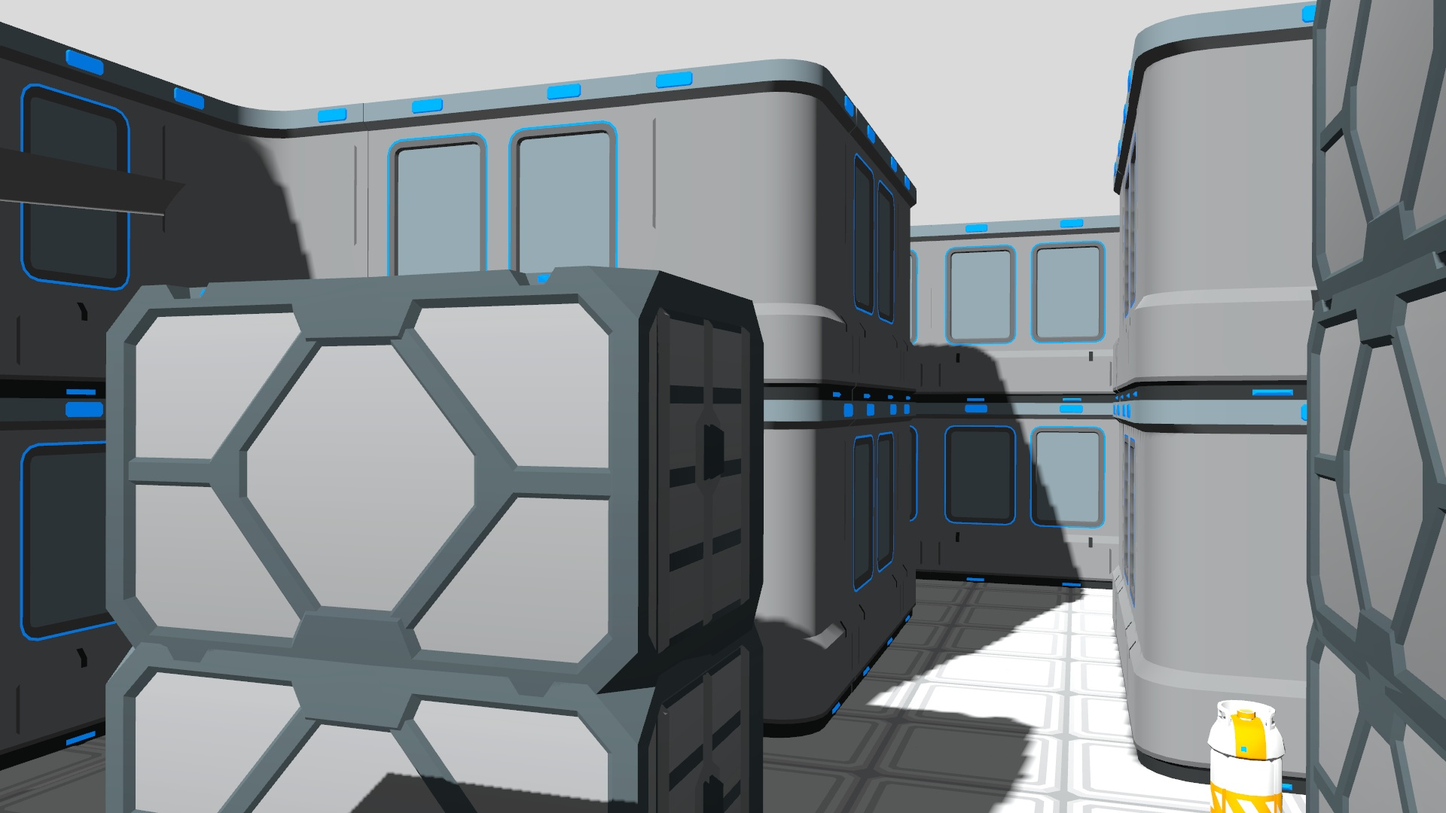yellow_barrel: (1206, 691, 1290, 813)
